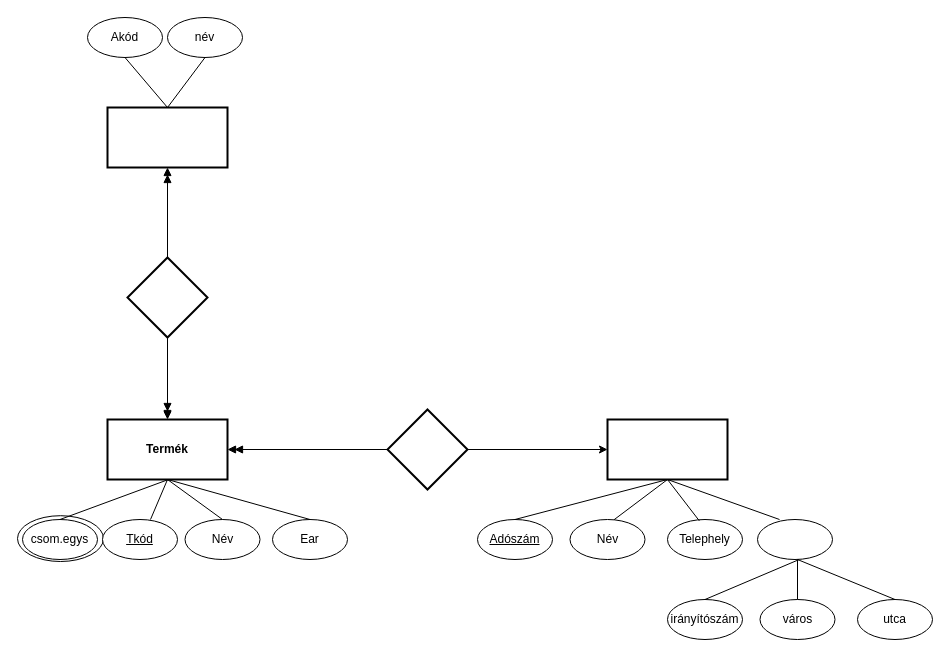
This 950x657 diagram has some shape labels left out. The centre of each missing label's shape, as x and y in pixels:
A-T: [167,297]
Alkatrész: [167,137]
Gyártó: [667,449]
Postai cím: [794,539]
T-Gy: [427,449]
